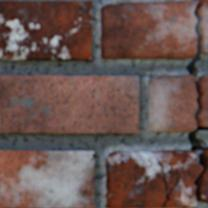brick: (0, 76, 138, 133), (0, 1, 91, 60), (0, 150, 93, 207)
broken_brick: (100, 0, 196, 59), (105, 150, 200, 207), (147, 75, 195, 132), (198, 0, 207, 54), (199, 76, 207, 126), (200, 164, 207, 203), (202, 147, 207, 158)
crack: (185, 0, 207, 207), (157, 161, 178, 207)
